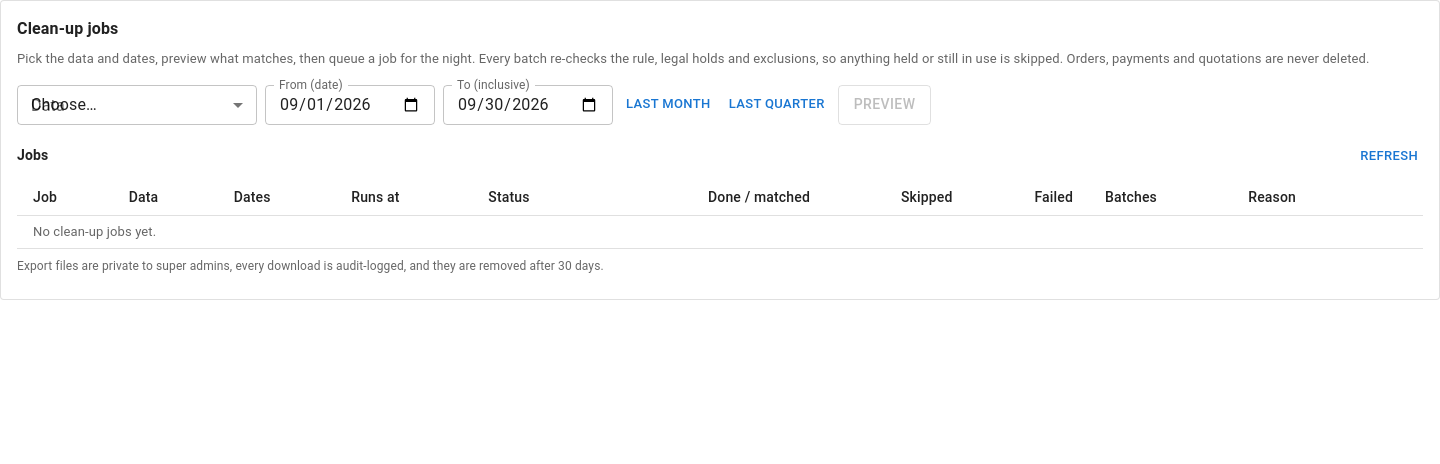
Test: CleanupJobsCard › orders can be previewed but never queued
Select "Completed orders" in the dropdown labelled "Data" at (137, 104), box [17,84,257,124]
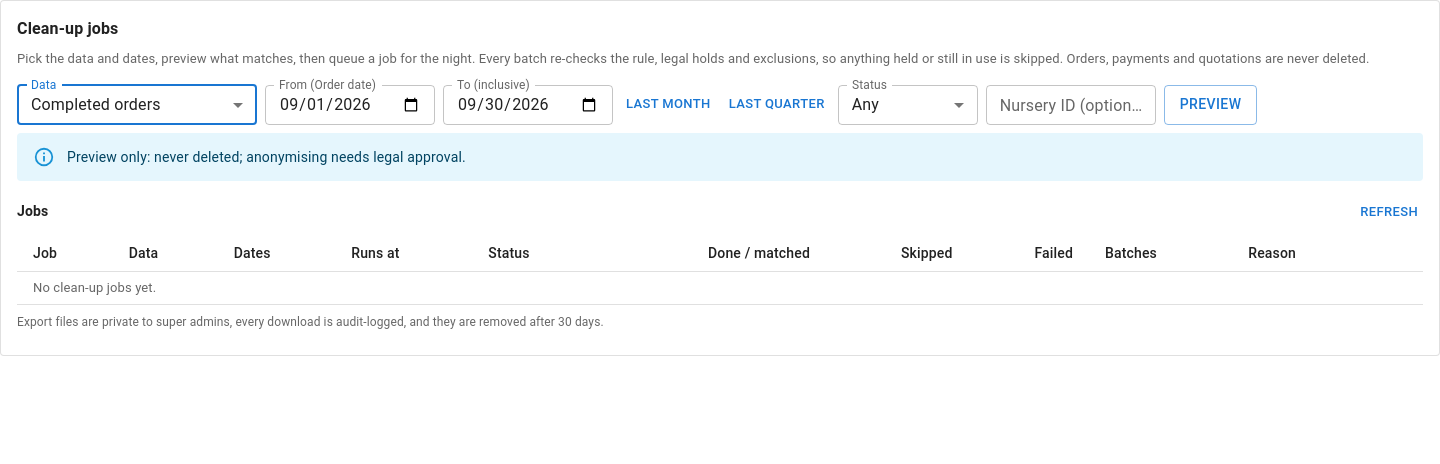
Check: the text "Preview only: never deleted" is shown, box [67,148,466,164]
Click the button "Preview" at (1211, 104), box [1164,84,1257,124]
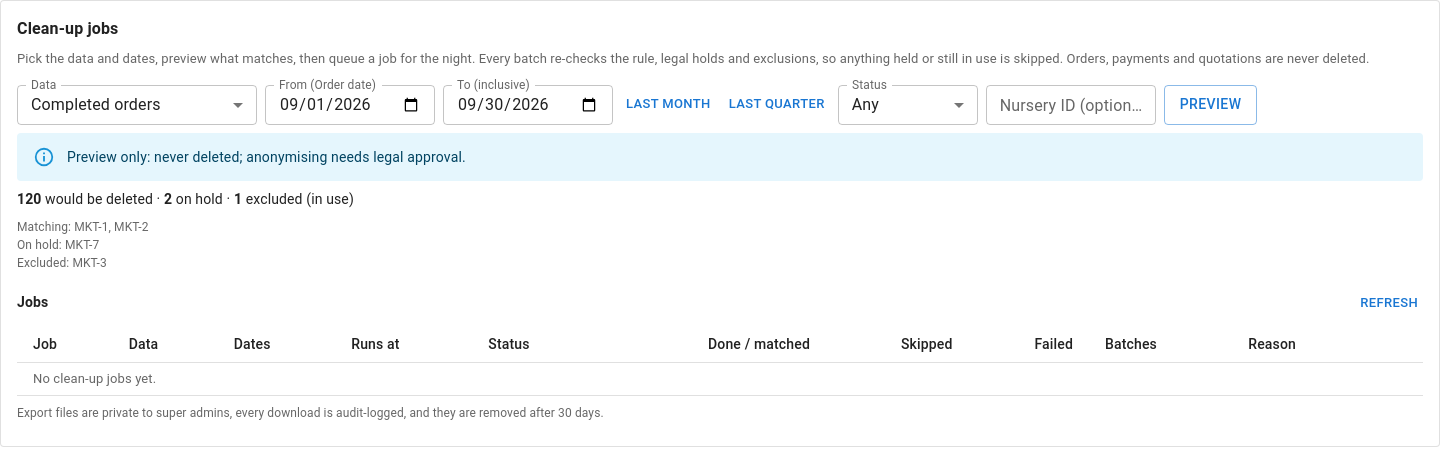
Check: the text "Matching: MKT-1, MKT-2" is shown, box [17,220,149,234]
